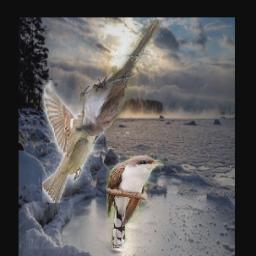Cuckoo: (75, 20, 160, 136), (106, 156, 164, 248)
Sparrow: (43, 81, 105, 204)
